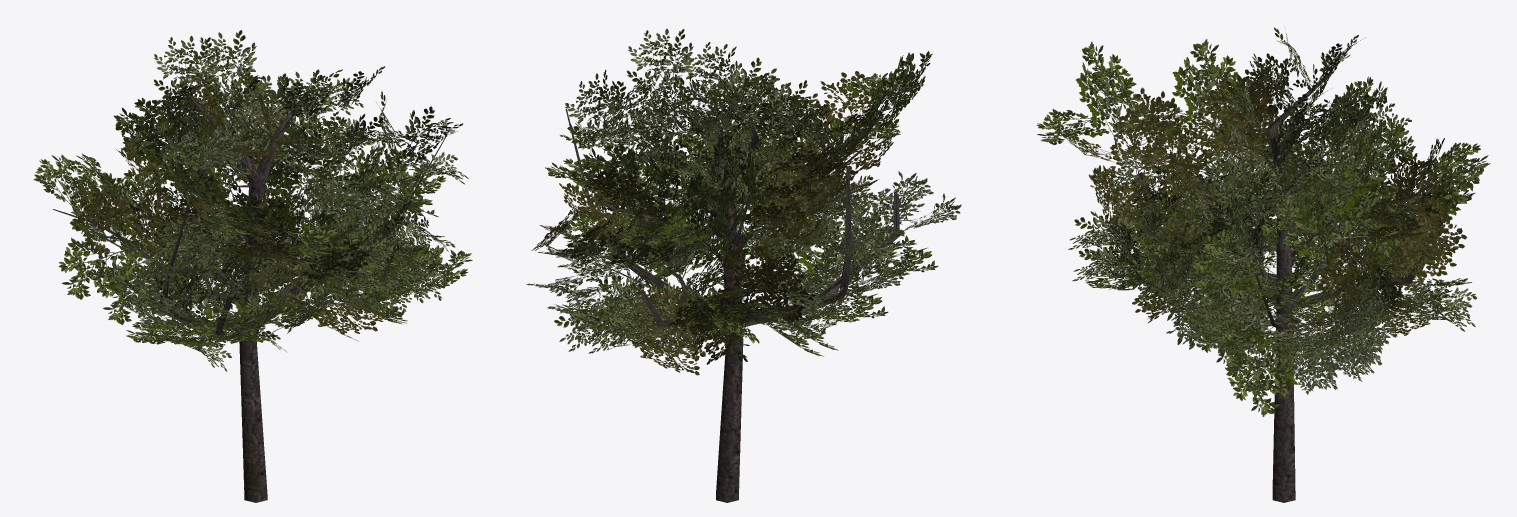
File: listva2.obj
3 renders of one model, left to right at view 1: azimuth 30°, elevation 25°; view 2: azimuth 150°, elevation 25°; view 3: azimuth 270°, elevation 25°, orthographic.
Visible parts, largest first — view 1: Listvennie_green2; view 2: Listvennie_green2; view 3: Listvennie_green2.
Boxes of the visible parts, x1,y1,x2,y2 form: Listvennie_green2: [33, 30, 472, 502]; Listvennie_green2: [526, 28, 961, 502]; Listvennie_green2: [1036, 26, 1490, 502].
Size of the model in its own units: 1237 by 1412 by 1370.
Materials: 1 (1 with a texture image).
